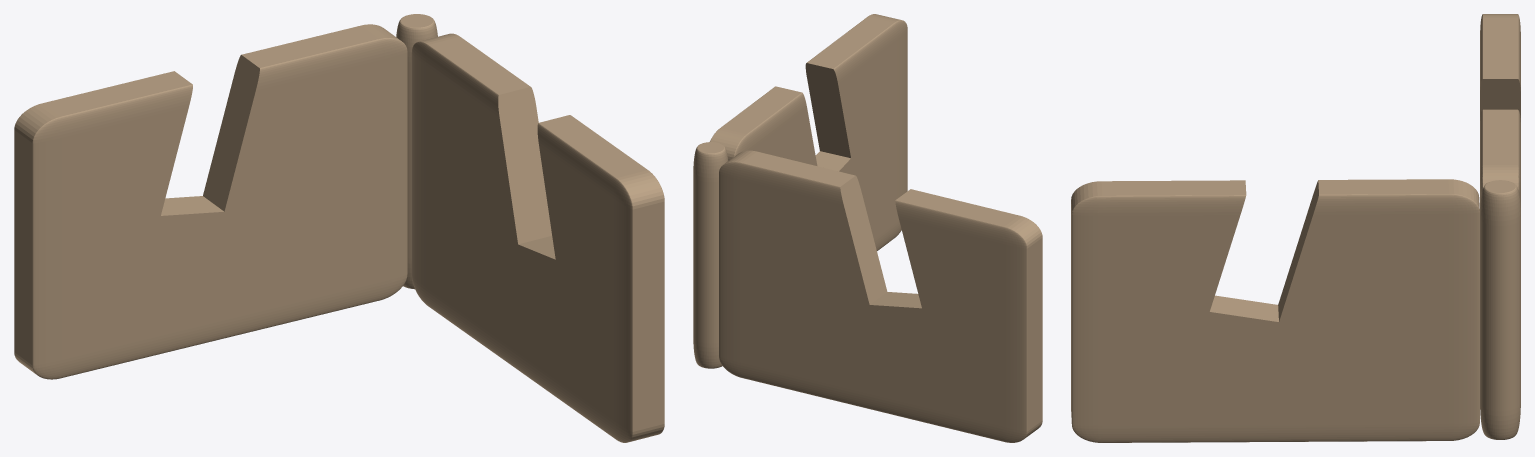
The model's file is 3_pid_1.gltf.
3 renders of one model, left to right at view 1: azimuth 30°, elevation 25°; view 2: azimuth 150°, elevation 25°; view 3: azimuth 270°, elevation 25°, orthographic. The views are drawn at different scales.
Parts seen in each view (by area): view 1: Mesh_Mesh_head_geo.001_lambert2SG.001; view 2: Mesh_Mesh_head_geo.001_lambert2SG.001; view 3: Mesh_Mesh_head_geo.001_lambert2SG.001.
Boxes of the visible parts, bbox=[...] form: Mesh_Mesh_head_geo.001_lambert2SG.001: bbox=[14, 14, 664, 442]; Mesh_Mesh_head_geo.001_lambert2SG.001: bbox=[693, 14, 1042, 442]; Mesh_Mesh_head_geo.001_lambert2SG.001: bbox=[1071, 14, 1520, 442].
Size of the model in its own units: 33.34 by 20 by 33.
